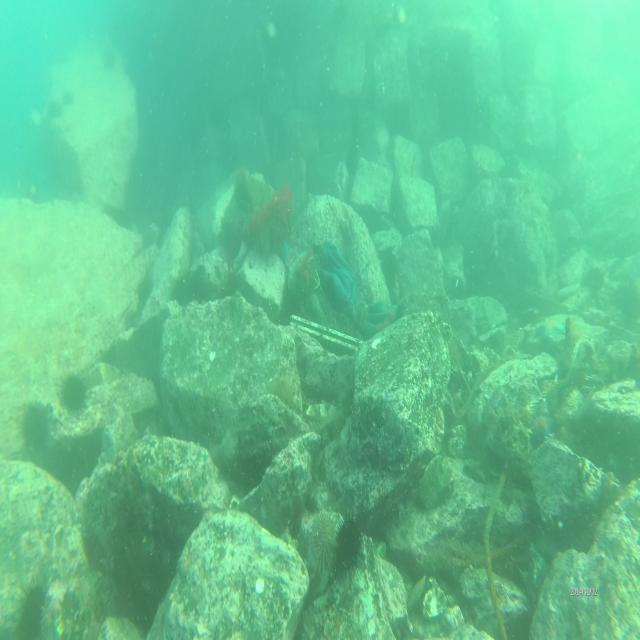echinus: (334, 511, 364, 576), (308, 504, 338, 566), (22, 398, 48, 449), (56, 368, 85, 412)
starfish: (526, 398, 556, 444), (536, 310, 568, 337)
